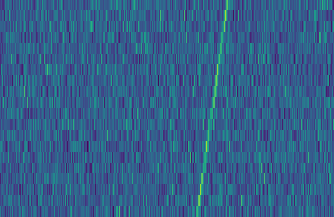signal: (193, 0, 233, 217)
